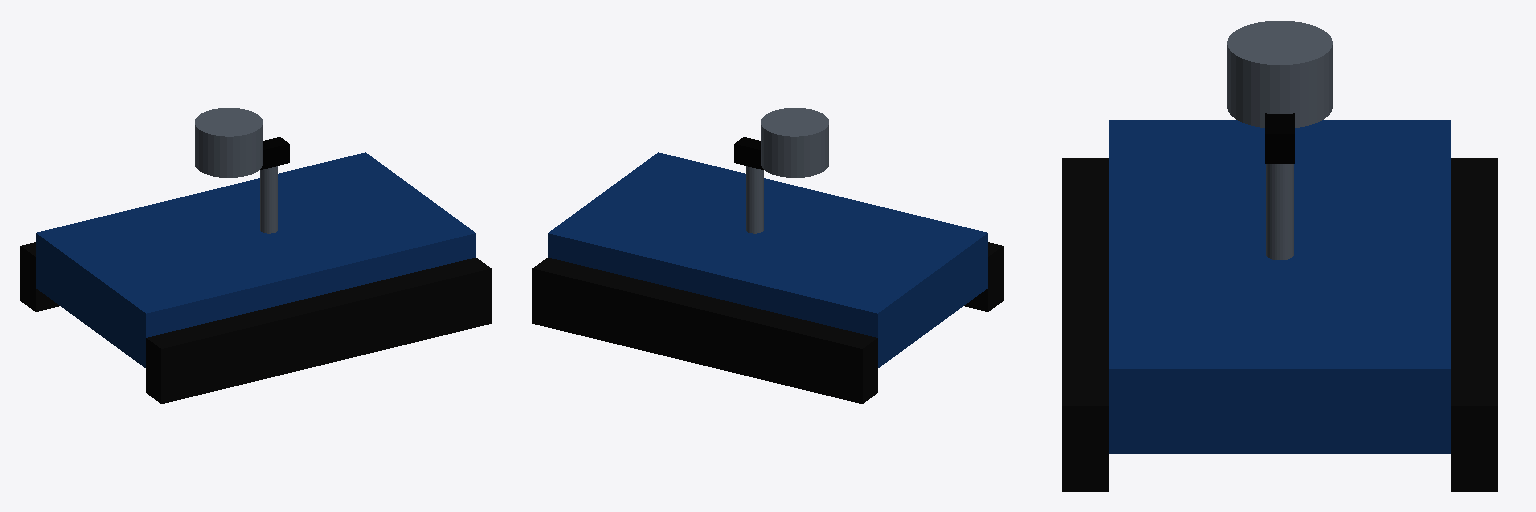
The robot description file, URDF, robot "omnifleet_t2":
<?xml version="1.0"?>
<robot name="omnifleet_t2">
  <material name="body_blue"><color rgba="0.08 0.22 0.42 1.0"/></material>
  <material name="track_dark"><color rgba="0.06 0.06 0.06 1.0"/></material>
  <material name="sensor_gray"><color rgba="0.35 0.38 0.42 1.0"/></material>
  <material name="camera_black"><color rgba="0.03 0.03 0.03 1.0"/></material>

  <link name="base_footprint"/>
  <link name="base_link">
    <visual>
      <origin xyz="0 0 0" rpy="0 0 0"/>
      <geometry><box size="0.50 0.29 0.08"/></geometry>
      <material name="body_blue"/>
    </visual>
    <collision>
      <origin xyz="0 0 0.09" rpy="0 0 0"/>
      <geometry><box size="0.50 0.37 0.33"/></geometry>
    </collision>
    <inertial>
      <origin xyz="0 0 0.09" rpy="0 0 0"/>
      <mass value="12.0"/>
      <inertia ixx="0.160" ixy="0" ixz="0" iyy="0.359" iyz="0" izz="0.387"/>
    </inertial>
  </link>
  <joint name="base_footprint_joint" type="fixed">
    <parent link="base_link"/>
    <child link="base_footprint"/>
    <origin xyz="0 0 -0.075" rpy="0 0 0"/>
  </joint>

  <link name="left_track_link">
    <visual><geometry><box size="0.50 0.04 0.08"/></geometry><material name="track_dark"/></visual>
    <collision><geometry><box size="0.50 0.04 0.08"/></geometry></collision>
  </link>
  <joint name="left_track_joint" type="fixed">
    <parent link="base_link"/>
    <child link="left_track_link"/>
    <origin xyz="0 0.165 -0.035" rpy="0 0 0"/>
  </joint>

  <link name="right_track_link">
    <visual><geometry><box size="0.50 0.04 0.08"/></geometry><material name="track_dark"/></visual>
    <collision><geometry><box size="0.50 0.04 0.08"/></geometry></collision>
  </link>
  <joint name="right_track_joint" type="fixed">
    <parent link="base_link"/>
    <child link="right_track_link"/>
    <origin xyz="0 -0.165 -0.035" rpy="0 0 0"/>
  </joint>

  <link name="sensor_mast_link">
    <visual>
      <origin xyz="0 0 0.055" rpy="0 0 0"/>
      <geometry><cylinder radius="0.012" length="0.11"/></geometry>
      <material name="sensor_gray"/>
    </visual>
  </link>
  <joint name="sensor_mast_joint" type="fixed">
    <parent link="base_link"/>
    <child link="sensor_mast_link"/>
    <origin xyz="0.02 0 0.04" rpy="0 0 0"/>
  </joint>

  <link name="rslidar">
    <visual>
      <origin xyz="0 0 0.03" rpy="0 0 0"/>
      <geometry><cylinder radius="0.045" length="0.06"/></geometry>
      <material name="sensor_gray"/>
    </visual>
  </link>
  <joint name="rslidar_joint" type="fixed">
    <parent link="base_link"/>
    <child link="rslidar"/>
    <origin xyz="-0.041 0 0.15" rpy="0 0 0"/>
  </joint>

  <link name="imu_link"/>
  <joint name="imu_joint" type="fixed">
    <parent link="base_link"/>
    <child link="imu_link"/>
    <origin xyz="0 0 0" rpy="0 0 0"/>
  </joint>

  <link name="camera_link">
    <visual>
      <geometry><box size="0.07 0.025 0.028"/></geometry>
      <material name="camera_black"/>
    </visual>
  </link>
  <joint name="camera_joint" type="fixed">
    <parent link="rslidar"/>
    <child link="camera_link"/>
    <origin xyz="0.05 0 0" rpy="0 0 0"/>
  </joint>
</robot>

--- Facts derived from the render (not from the file) ---
3 views of the same robot in one strip: view 1: azimuth 30°, elevation 25°; view 2: azimuth 150°, elevation 25°; view 3: azimuth 270°, elevation 25° (orthographic).
Robot: omnifleet_t2 — 8 links, 7 joints (7 fixed); root link base_link; default pose: all joints at 0.
Visible links, largest first — view 1: base_link, right_track_link, rslidar, left_track_link, sensor_mast_link, camera_link; view 2: base_link, left_track_link, rslidar, right_track_link, sensor_mast_link, camera_link; view 3: base_link, left_track_link, right_track_link, rslidar, sensor_mast_link, camera_link.
Link boxes in pixels (box(x1,y1,x2,y2)): base_link: box(36, 152, 475, 367); right_track_link: box(146, 258, 491, 403); rslidar: box(195, 108, 262, 177); left_track_link: box(20, 242, 59, 311); sensor_mast_link: box(260, 166, 277, 233); camera_link: box(260, 137, 289, 169); base_link: box(548, 152, 987, 367); left_track_link: box(532, 258, 877, 403); rslidar: box(761, 108, 828, 177); right_track_link: box(964, 242, 1003, 311); sensor_mast_link: box(746, 166, 763, 233); camera_link: box(734, 137, 763, 169); base_link: box(1109, 120, 1450, 453); left_track_link: box(1451, 158, 1497, 491); right_track_link: box(1062, 158, 1108, 491); rslidar: box(1227, 21, 1332, 127); sensor_mast_link: box(1266, 164, 1293, 259); camera_link: box(1265, 113, 1294, 163).
Size in the robot's own frame: 0.5 by 0.37 by 0.285 metres.
Geometry: primitives only (box / cylinder / sphere), no mesh files.
